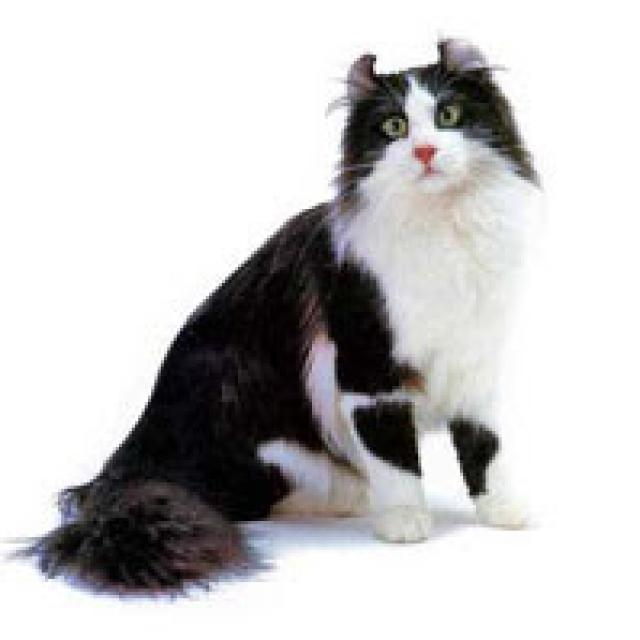American Curl: (8, 26, 554, 609)
